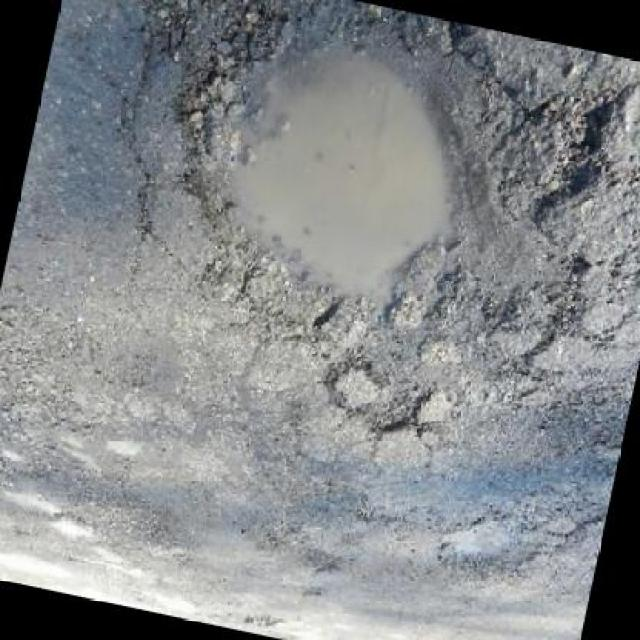pothole1: (123, 0, 628, 409), (353, 374, 435, 449)
